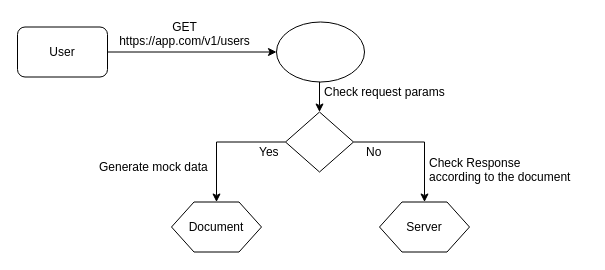
This 605x270 diagram has some shape labels left out. The shapes that lost their labels are listed below. From the top down, each one's centre as x and y in pixels, then its label:
the point at 320,51: XJZProxy
the point at 319,141: Mock?
